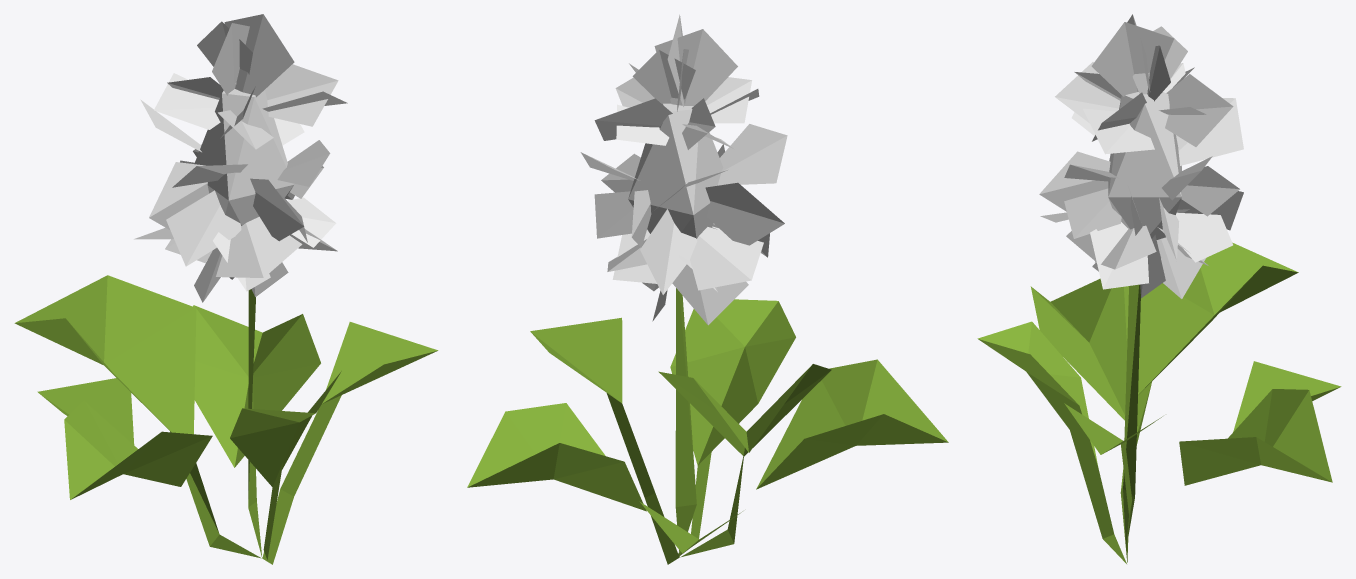
The model's file is SM_Water_Hyacinth_Single_Flower_Mature_A.fbx.
The picture shows the model from 3 angles, left to right: view 1: azimuth 30°, elevation 25°; view 2: azimuth 150°, elevation 25°; view 3: azimuth 270°, elevation 25°; orthographic projection. The views are drawn at different scales.
Visible parts, largest first — view 1: water-hyacinth-single-flower-mature-a; view 2: water-hyacinth-single-flower-mature-a; view 3: water-hyacinth-single-flower-mature-a.
Part boxes in pixels (x1=…): water-hyacinth-single-flower-mature-a: x1=14, y1=14, x2=438, y2=564; water-hyacinth-single-flower-mature-a: x1=467, y1=14, x2=948, y2=564; water-hyacinth-single-flower-mature-a: x1=977, y1=14, x2=1341, y2=563.
Size of the model in its own units: 0.3946 by 0.5299 by 0.3253.
